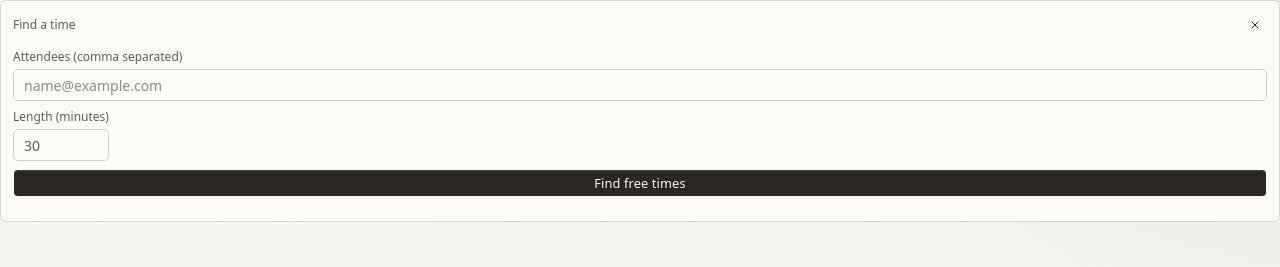
Test: FindTimePanel › disables old times and asks again when the length changes
Later steps or results of the test are not shown.
Step 1. Type "sam@example.test" into the field labelled "Attendees (comma separated)" → (640, 85), box x1=13 y1=69 x2=1267 y2=101
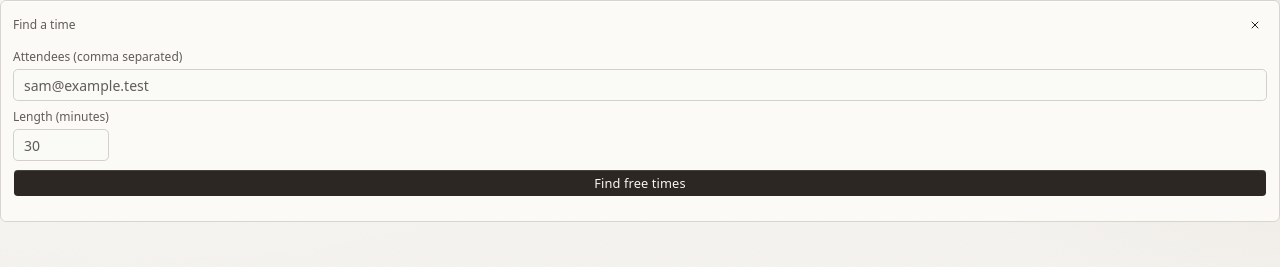
Step 2. Click the button "Find free times" → click(640, 183), box x1=13 y1=169 x2=1267 y2=197
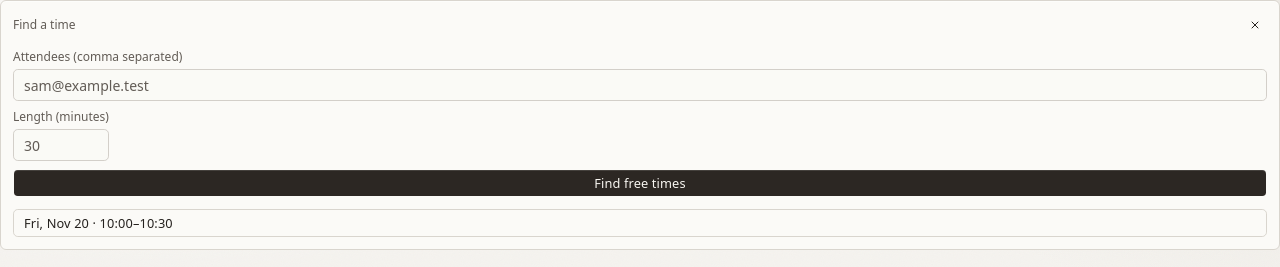
Now the button "Fri, Nov 20 · 10:00–10:30" is enabled, box x1=13 y1=209 x2=1267 y2=237
Step 3. Replace the text in the number field labelled "Length (minutes)" with "60" → (61, 145), box x1=13 y1=129 x2=109 y2=161
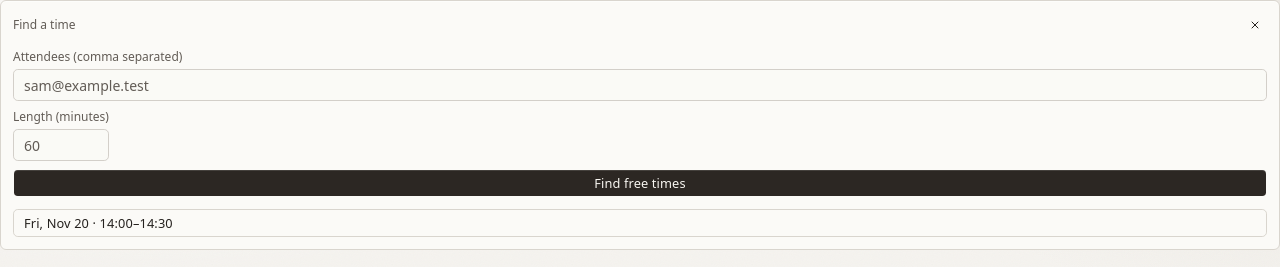
Now the button "Fri, Nov 20 · 14:00–14:30" is enabled, box x1=13 y1=209 x2=1267 y2=237
Now the button "10:00" is gone
